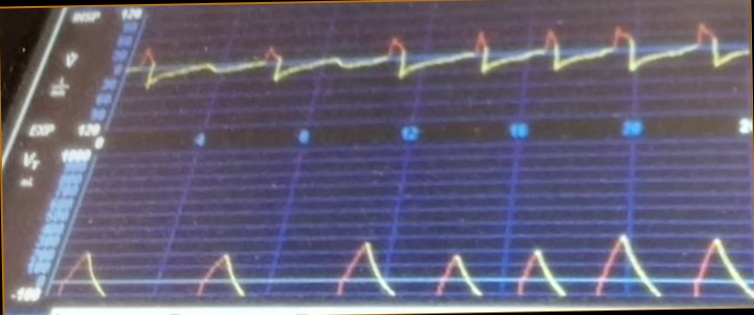Ineffective_effort Flow: (133, 20, 749, 110)
Ineffective_effort Volume: (53, 226, 753, 299)
